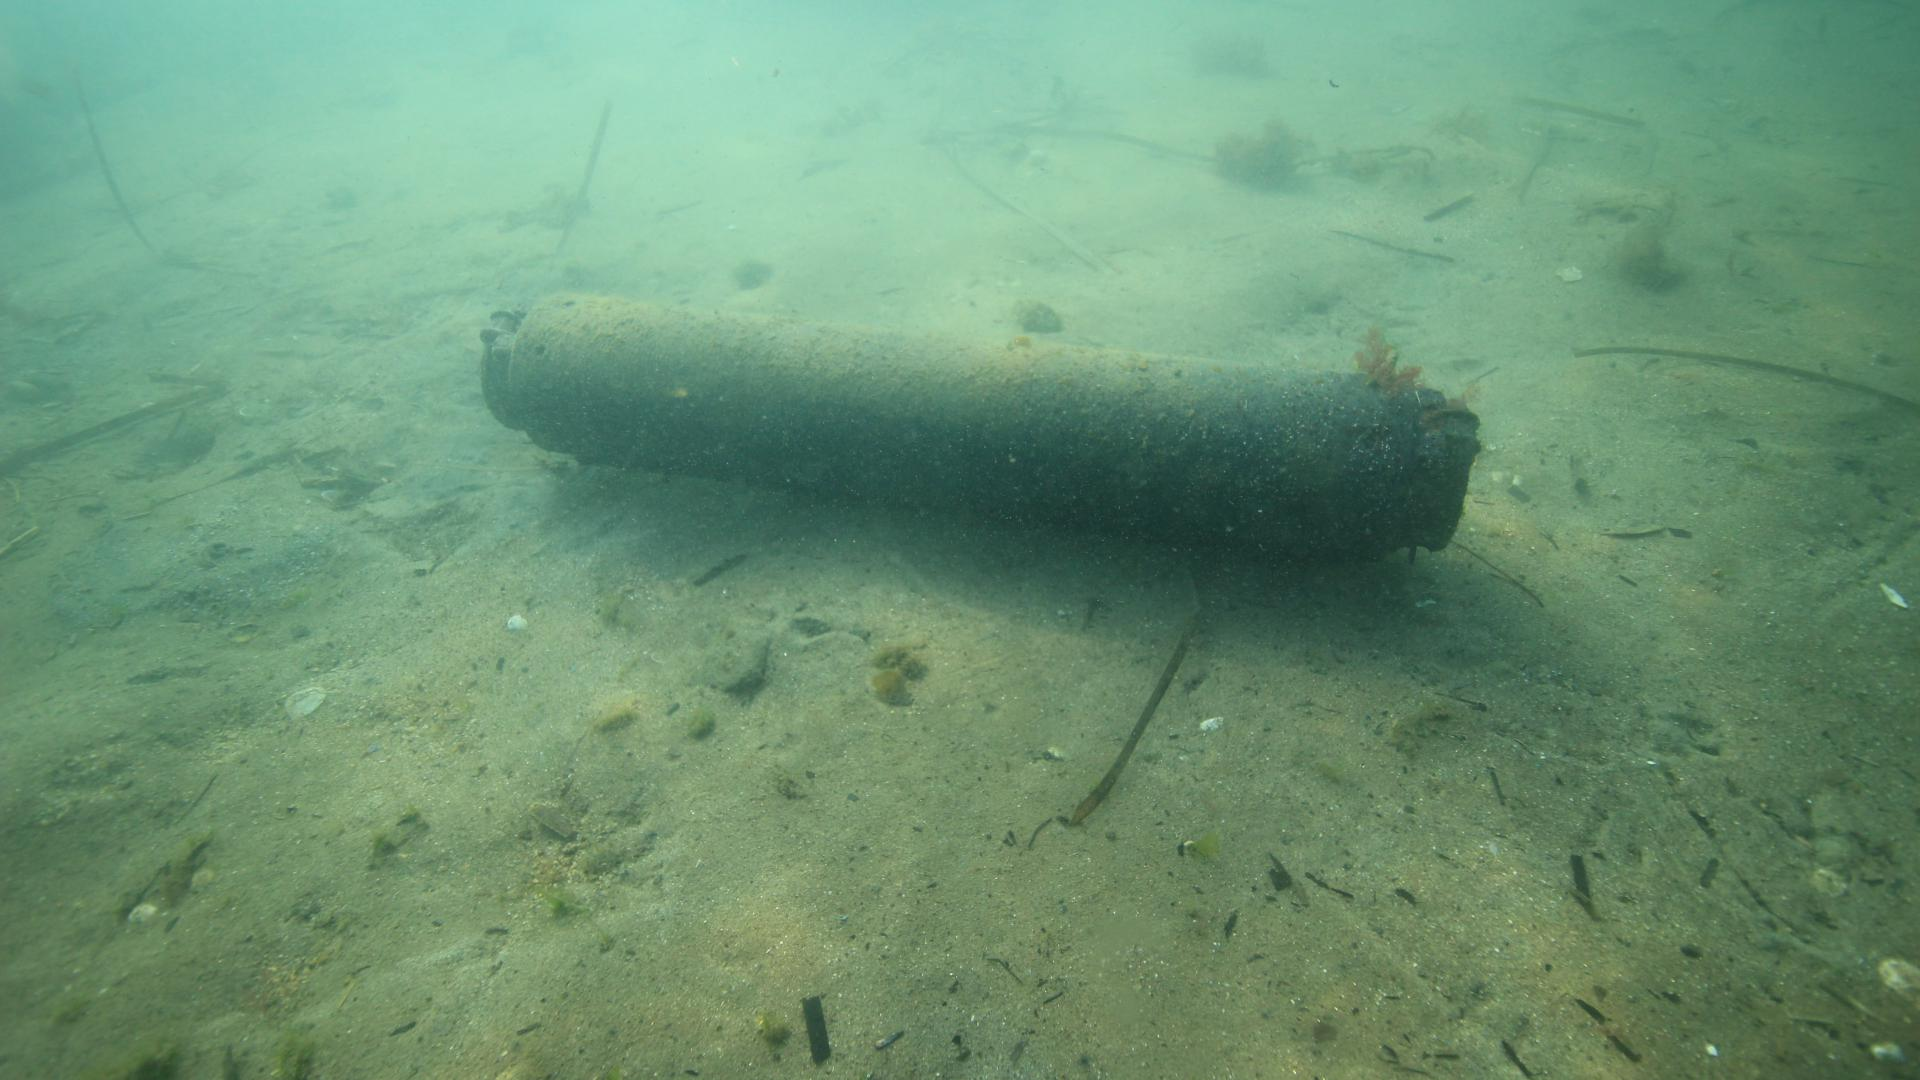eel fish trap: (475, 291, 1485, 564)
